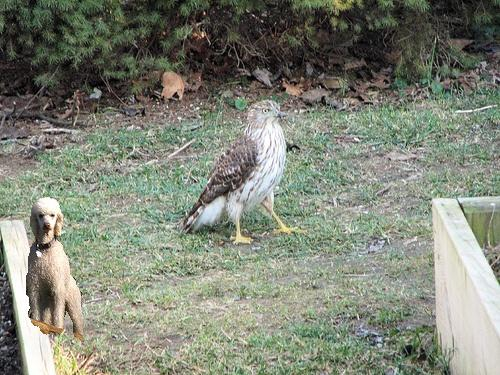tampered: (27, 198, 83, 340)
